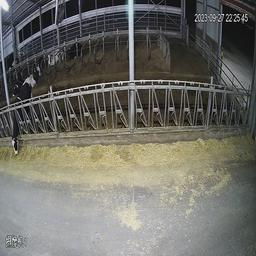cow: (4, 63, 34, 159), (68, 34, 86, 66), (47, 36, 62, 69), (29, 49, 44, 76)
